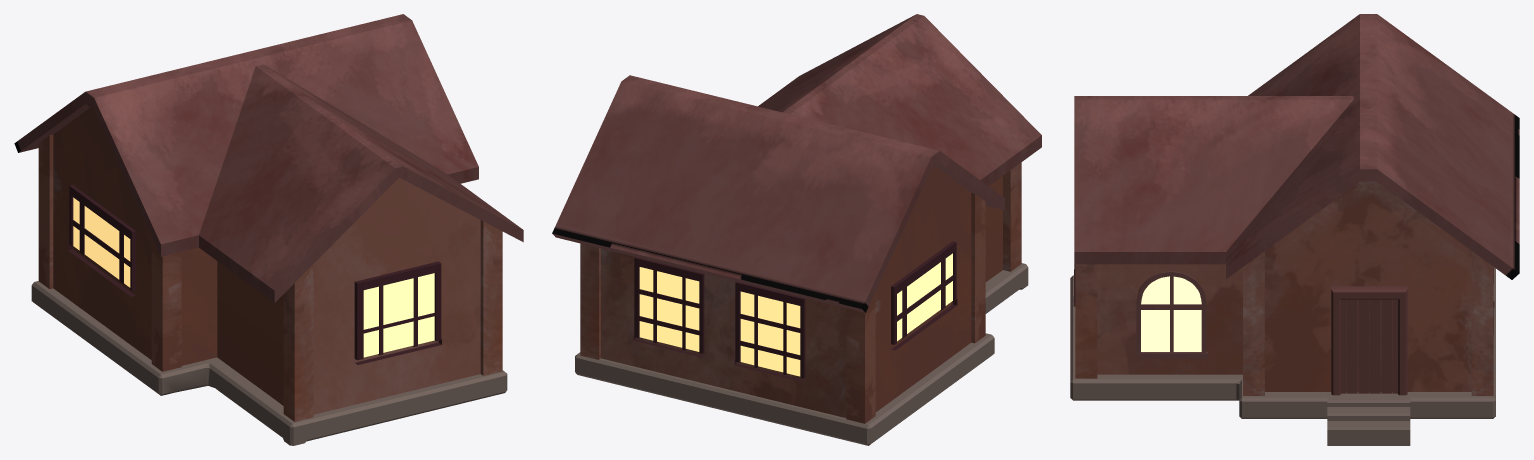
File: house_brick_1f_1x1.glb
The picture shows the model from 3 angles, left to right: view 1: azimuth 30°, elevation 25°; view 2: azimuth 150°, elevation 25°; view 3: azimuth 270°, elevation 25°; orthographic projection. The views are drawn at different scales.
Visible parts, largest first — view 1: 1F1to1; view 2: 1F1to1; view 3: 1F1to1.
Boxes of the visible parts, x1,y1,x2,y2 form: 1F1to1: (14,14,523,445); 1F1to1: (552,14,1041,445); 1F1to1: (1070,14,1519,445).
Size of the model in its own units: 8.73 by 6.96 by 9.96.
Materials: 6 (2 with a texture image).
